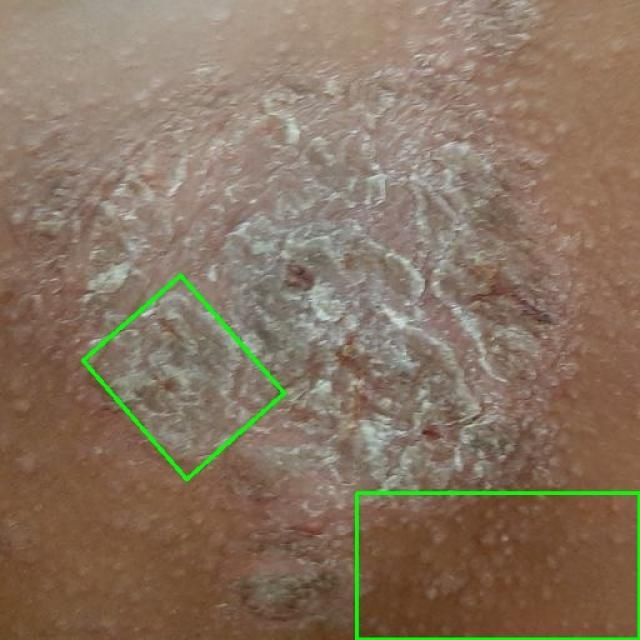Contact Dermatitis: (356, 492, 639, 639), (83, 275, 285, 479)
